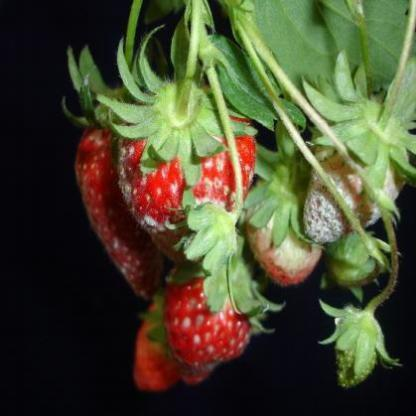Strawberry_Powdery_Mildew_Fruit: (114, 78, 256, 264), (74, 88, 176, 300), (302, 102, 411, 246), (160, 260, 254, 376)
